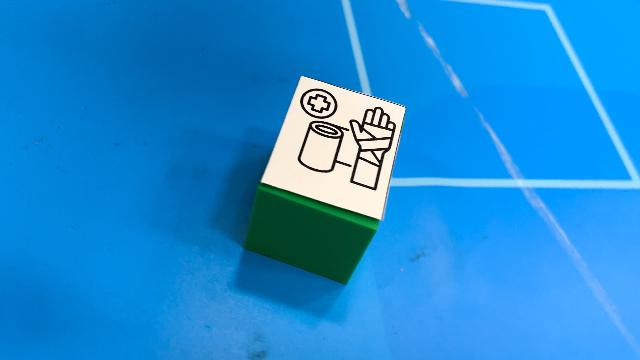bandage: (242, 75, 406, 284)
